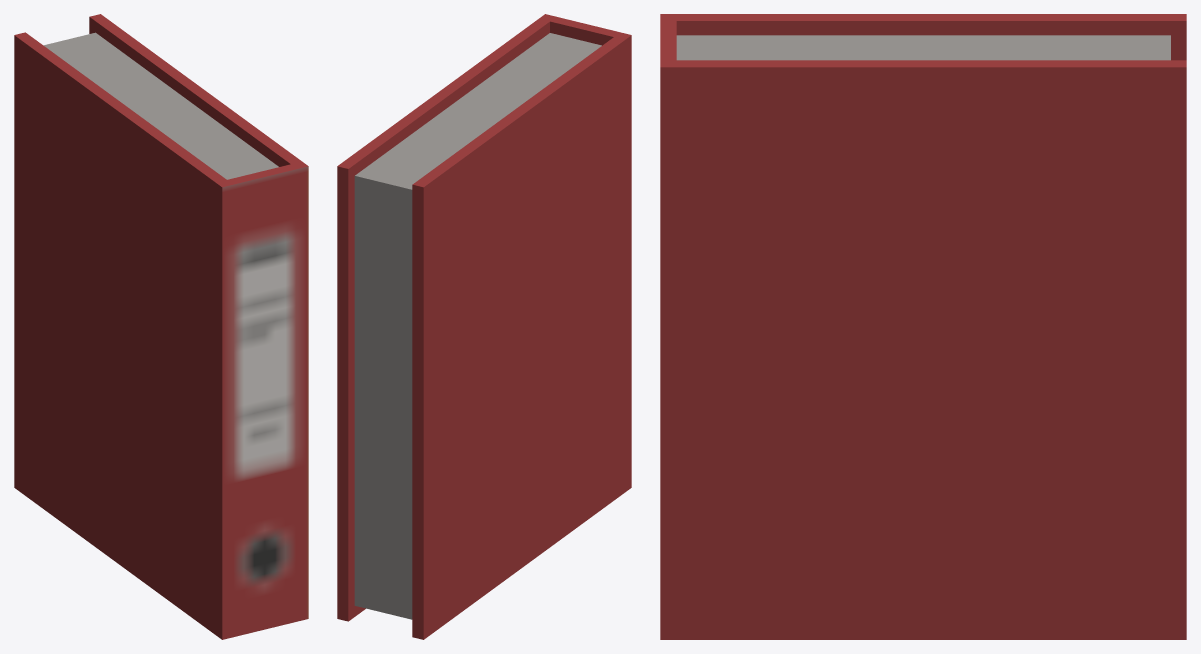
Rendered from SM_Props_Interior_Generic_Office_File_Large_02.fbx.
The picture shows the model from 3 angles, left to right: view 1: azimuth 30°, elevation 25°; view 2: azimuth 150°, elevation 25°; view 3: azimuth 270°, elevation 25°; orthographic projection. The views are drawn at different scales.
Visible parts, largest first — view 1: SM_Props_Interior_Generic_Office_File_Large_02; view 2: SM_Props_Interior_Generic_Office_File_Large_02; view 3: SM_Props_Interior_Generic_Office_File_Large_02.
Boxes of the visible parts, box(x1,y1,x2,y2) form: SM_Props_Interior_Generic_Office_File_Large_02: box(14, 14, 308, 639); SM_Props_Interior_Generic_Office_File_Large_02: box(337, 14, 631, 639); SM_Props_Interior_Generic_Office_File_Large_02: box(660, 14, 1186, 639).
Size of the model in its own units: 12 by 60 by 50.
